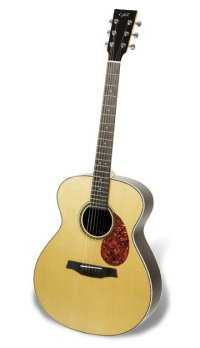guitar: (31, 7, 164, 337)
